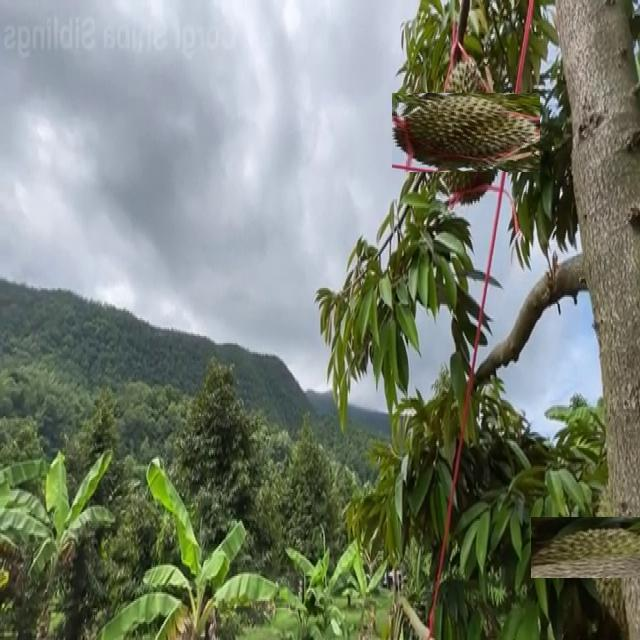durian: (409, 75, 523, 189), (555, 492, 640, 602)
